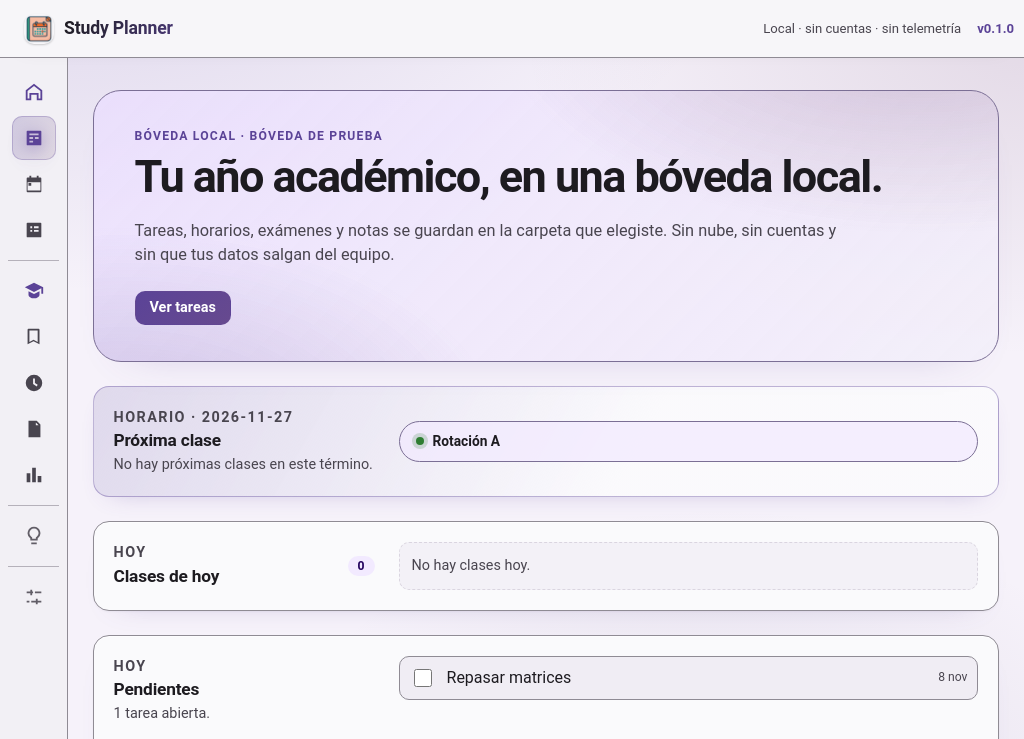
Scenario: App con IPC de Tauri › permite limpiar la asistencia huérfana para borrar una franja
This screenshot has width=1024, height=739.
Click the button named "Horario": (34,383) [12,361,56,405]
(page scrolled)
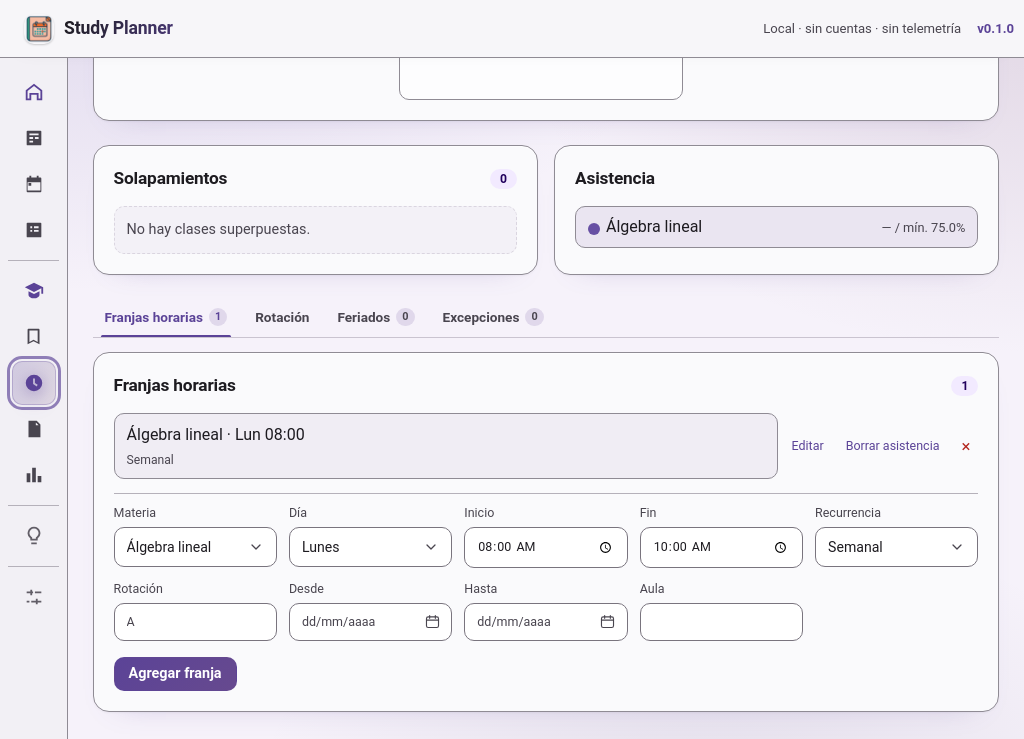
Click the button with aria-label "Borrar toda la asistencia de": (893,446) [838,431,948,462]
(page scrolled)
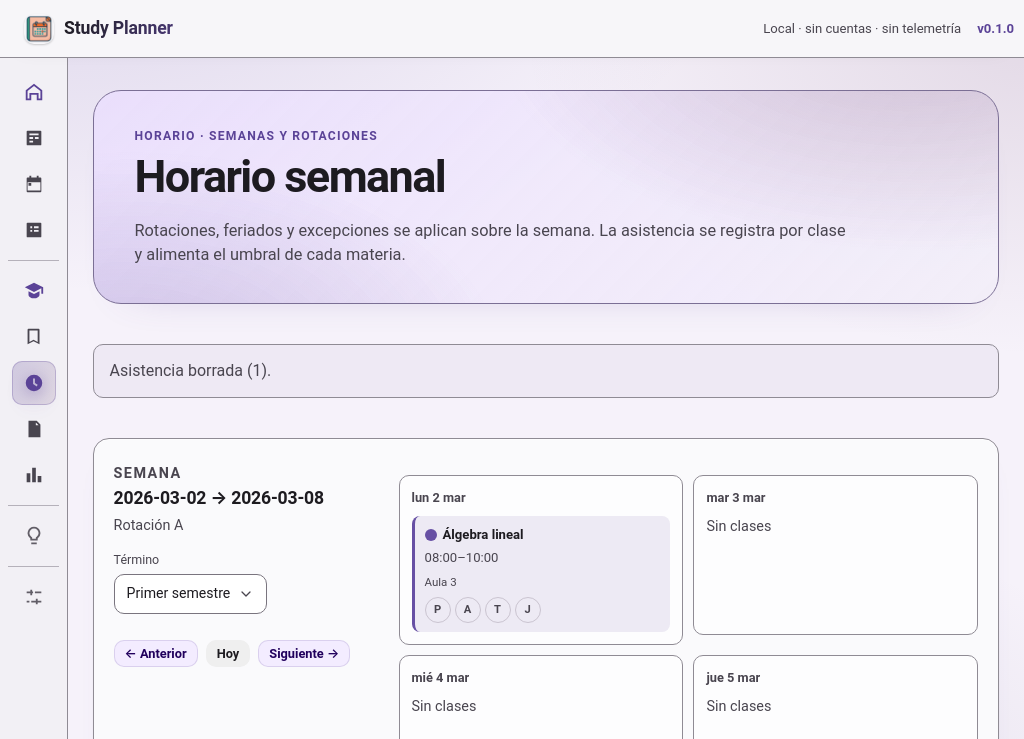
Expected: the text "Asistencia borrada (1)." is shown, [93,344,1000,398]
